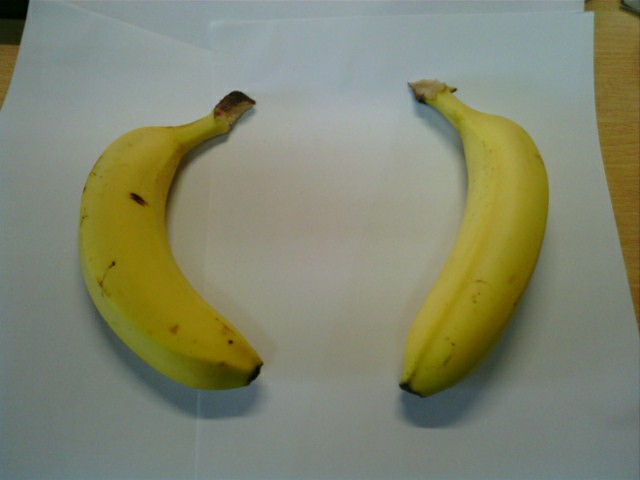fresh_banana: (402, 79, 549, 393)
normal_banana: (67, 93, 261, 391)
